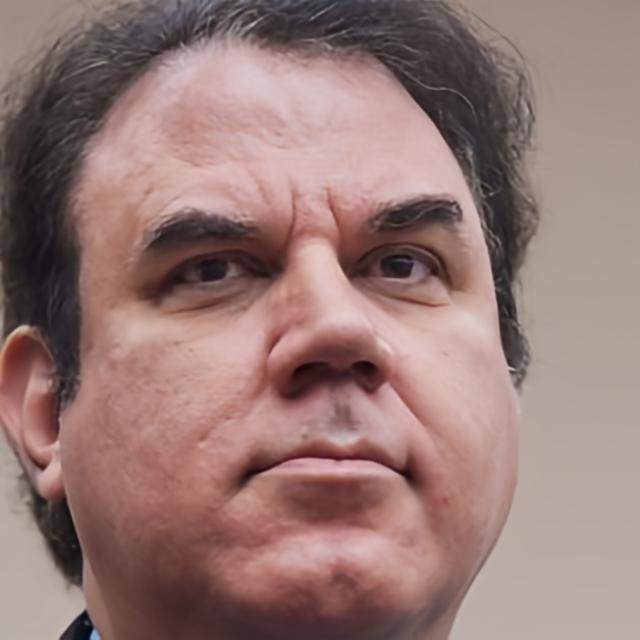anger: (72, 38, 498, 608)
